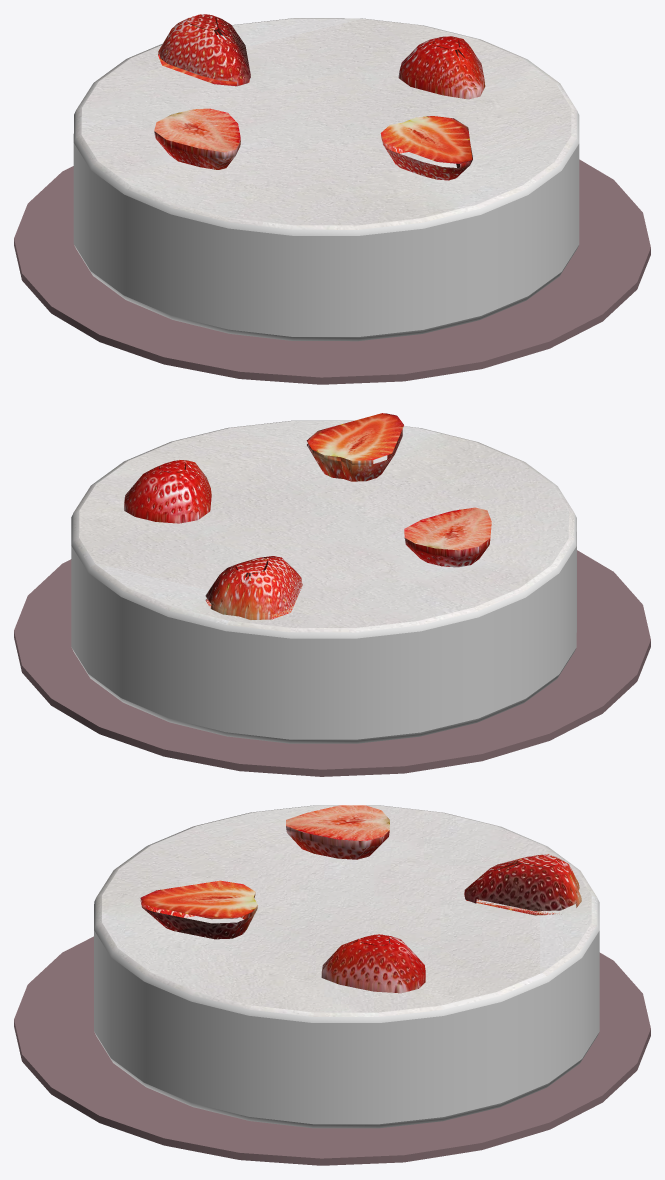
File: cake-strawberry.glb
The picture shows the model from 3 angles, top to bottom: view 1: azimuth 30°, elevation 25°; view 2: azimuth 150°, elevation 25°; view 3: azimuth 270°, elevation 25°; orthographic projection.
Visible parts, largest first — view 1: cake-strawberry; view 2: cake-strawberry; view 3: cake-strawberry.
Boxes of the visible parts, <box> form: cake-strawberry: <box>14,14,650,384</box>; cake-strawberry: <box>14,413,650,776</box>; cake-strawberry: <box>14,805,650,1165</box>.
Bounding box in the file's own units: 0.2538 × 0.0697 × 0.2538.
Materials: 3 (2 with a texture image).
